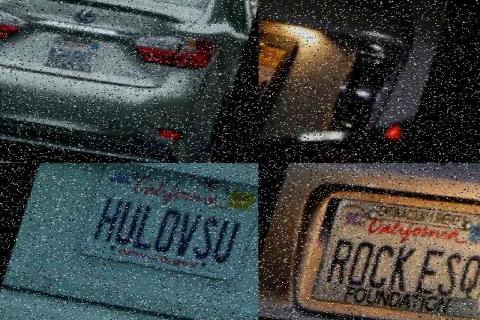LicensePlate: (76, 163, 258, 276), (313, 193, 480, 315), (259, 7, 355, 148), (46, 27, 106, 67)
